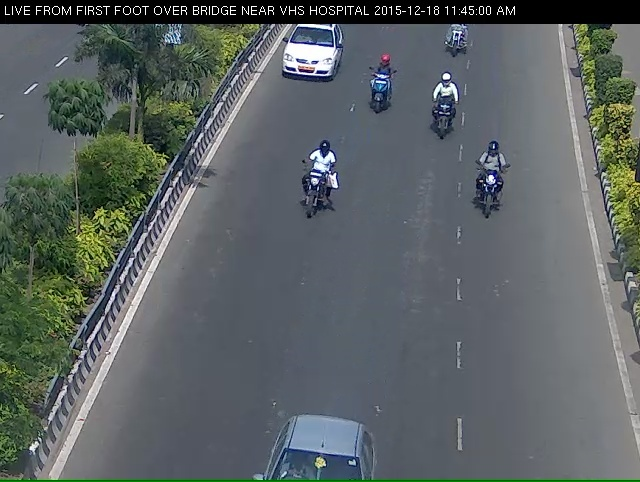Car: (272, 21, 343, 97)
Person: (281, 160, 334, 243), (470, 147, 513, 237), (354, 61, 393, 133), (426, 82, 459, 151)
